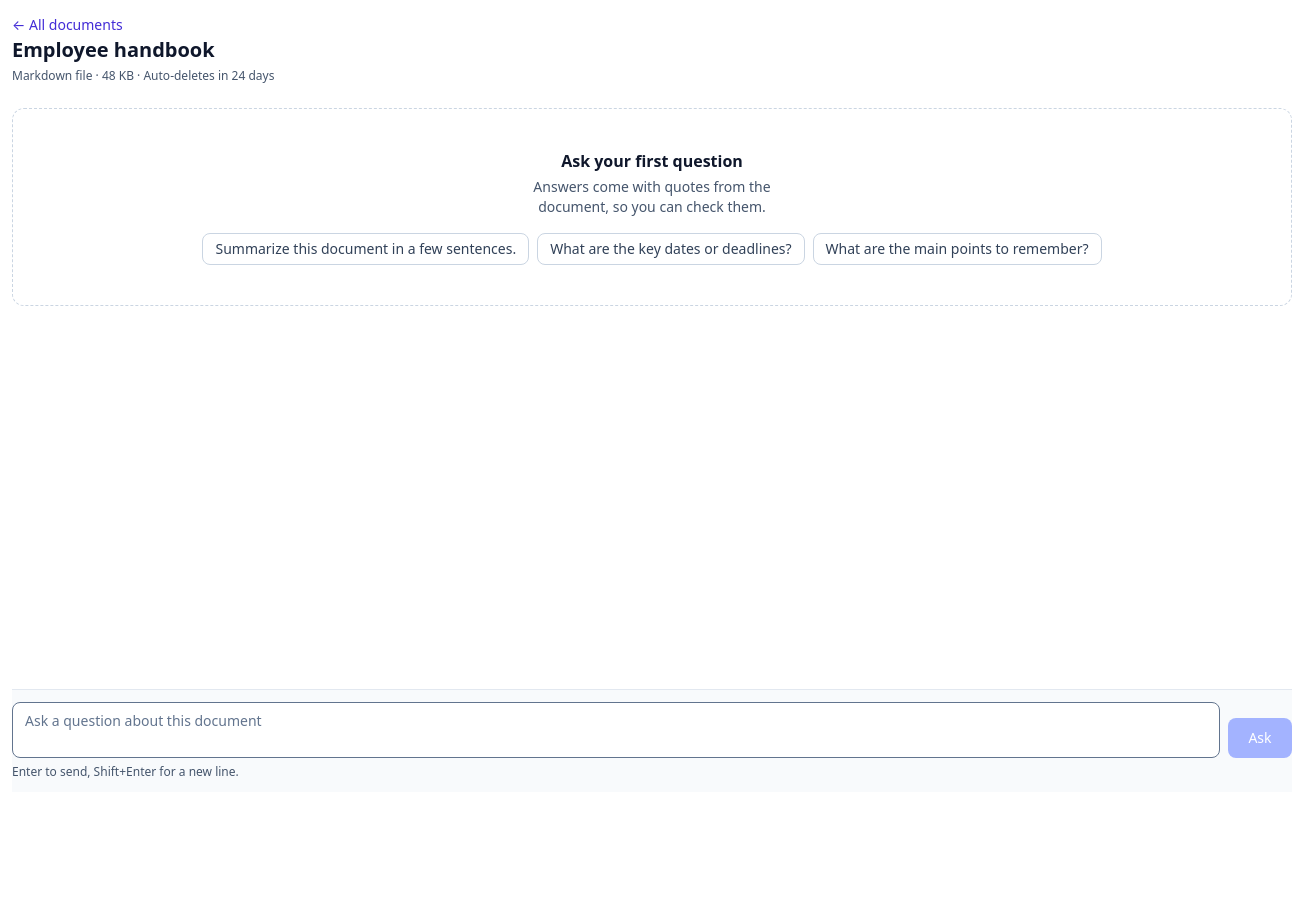
Test: ChatView: when something goes wrong › lets a refusal be dismissed
This screenshot has width=1304, height=912.
In the text box named "Your question": (616, 730) x1=12 y1=702 x2=1220 y2=758, type "How many vacation days do I get?"
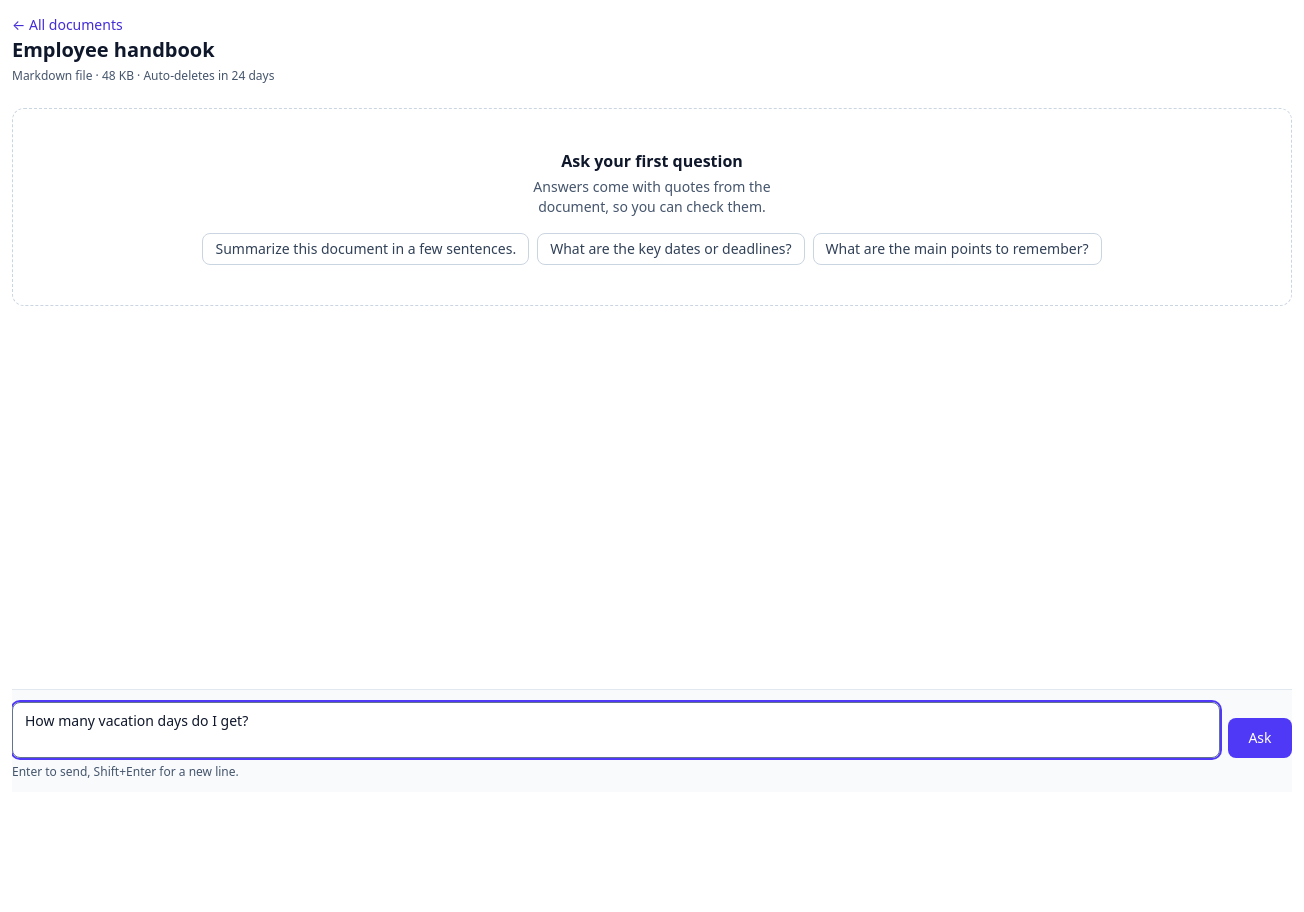
Press Enter
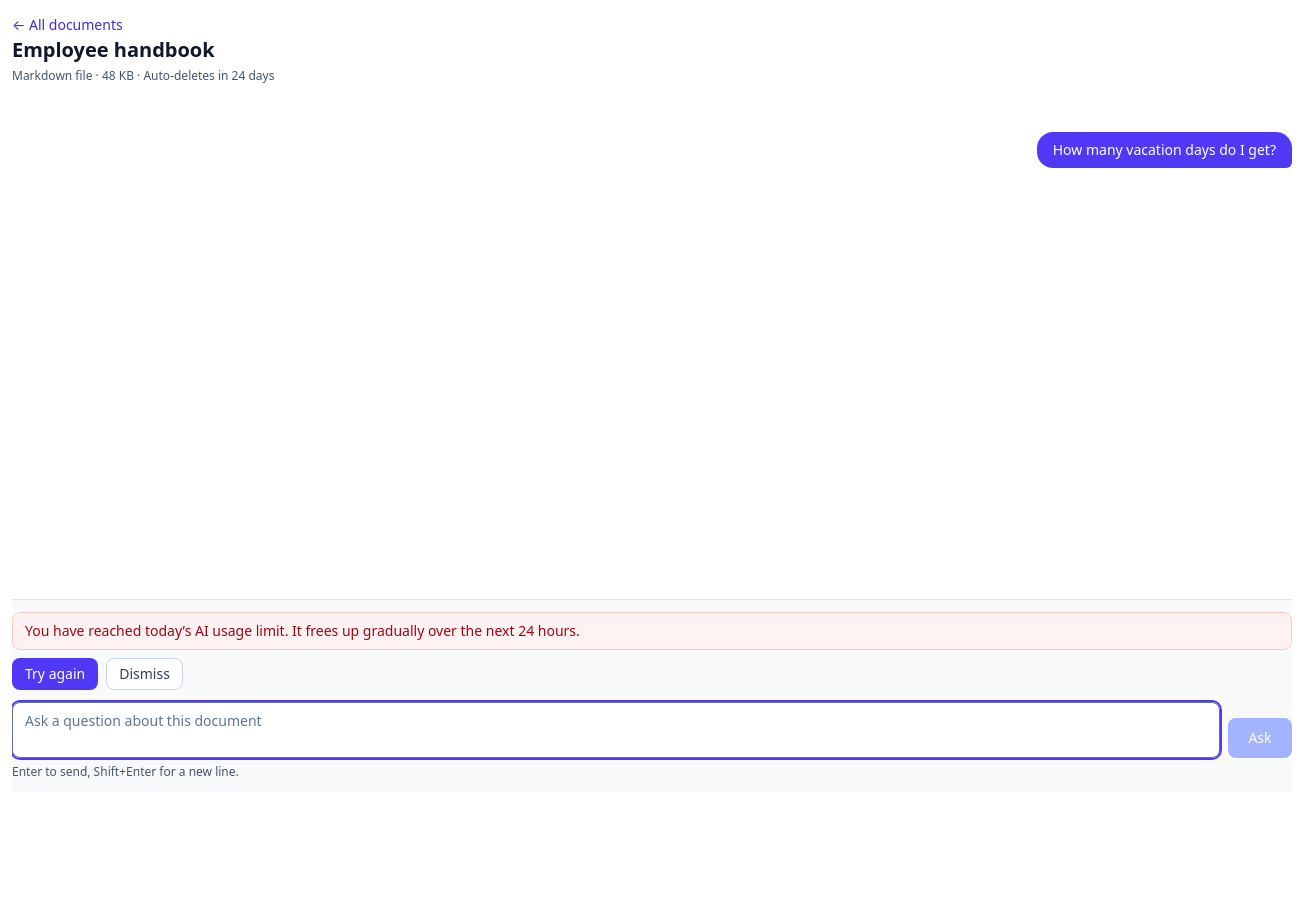
Check: the message shows "usage limit", box x1=25 y1=621 x2=580 y2=640
Click the button "Dismiss": (145, 674) x1=106 y1=658 x2=183 y2=690
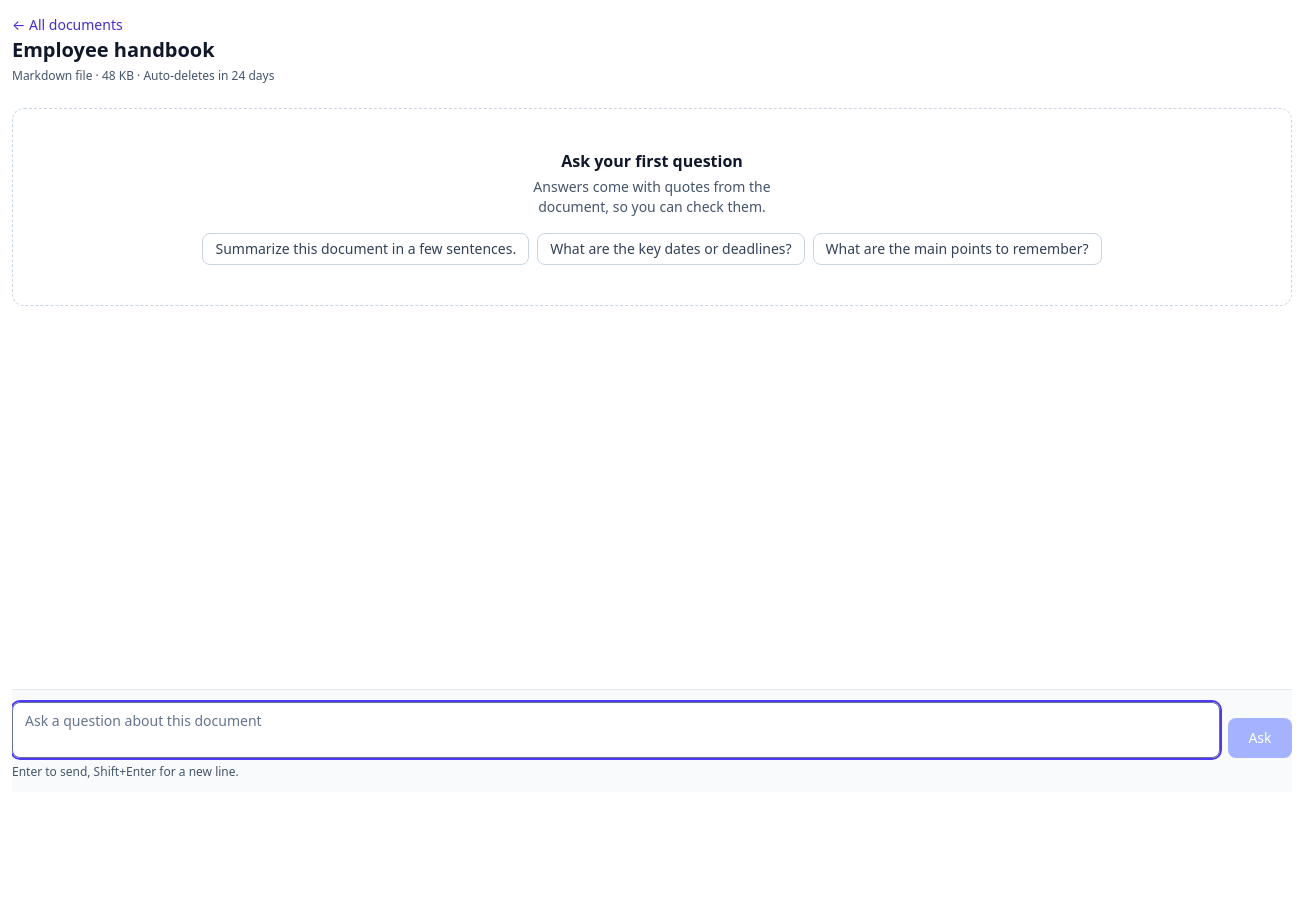
Check: the message "You have reached today’s AI usage limit. It frees up gradually over the next 24" is gone
Check: the text "How many vacation days do I get?" is gone
